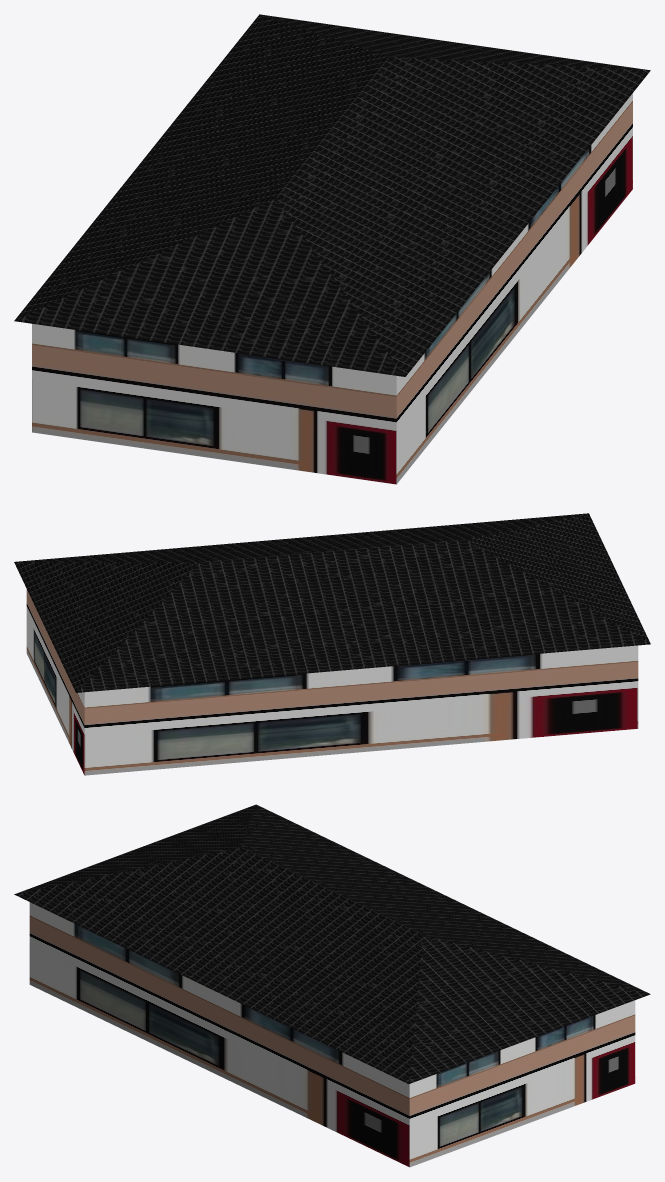
The picture shows the model from 3 angles, top to bottom: view 1: azimuth 30°, elevation 25°; view 2: azimuth 150°, elevation 25°; view 3: azimuth 270°, elevation 25°; orthographic projection. The views are drawn at different scales.
Parts seen in each view (by area): view 1: CityEngineMaterial_14_m, CityEngineMaterial_5_m; view 2: CityEngineMaterial_14_m, CityEngineMaterial_5_m; view 3: CityEngineMaterial_14_m, CityEngineMaterial_5_m.
Boxes of the visible parts, <box> form: CityEngineMaterial_14_m: <box>14,14,650,376</box>; CityEngineMaterial_5_m: <box>32,93,632,484</box>; CityEngineMaterial_14_m: <box>14,513,650,692</box>; CityEngineMaterial_5_m: <box>26,589,638,775</box>; CityEngineMaterial_14_m: <box>14,804,650,1083</box>; CityEngineMaterial_5_m: <box>29,902,635,1167</box>.
Bounding box in the file's own units: 56.49 × 13.46 × 54.35.
